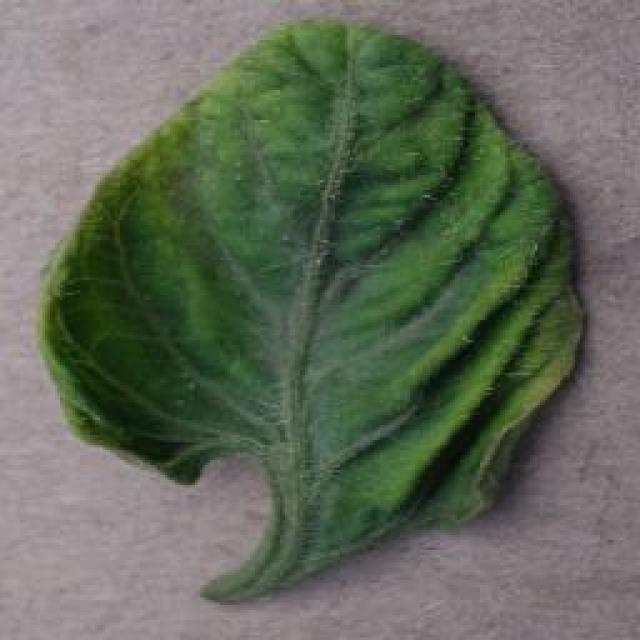Tomato yellow virus leaf: (37, 16, 590, 566)
